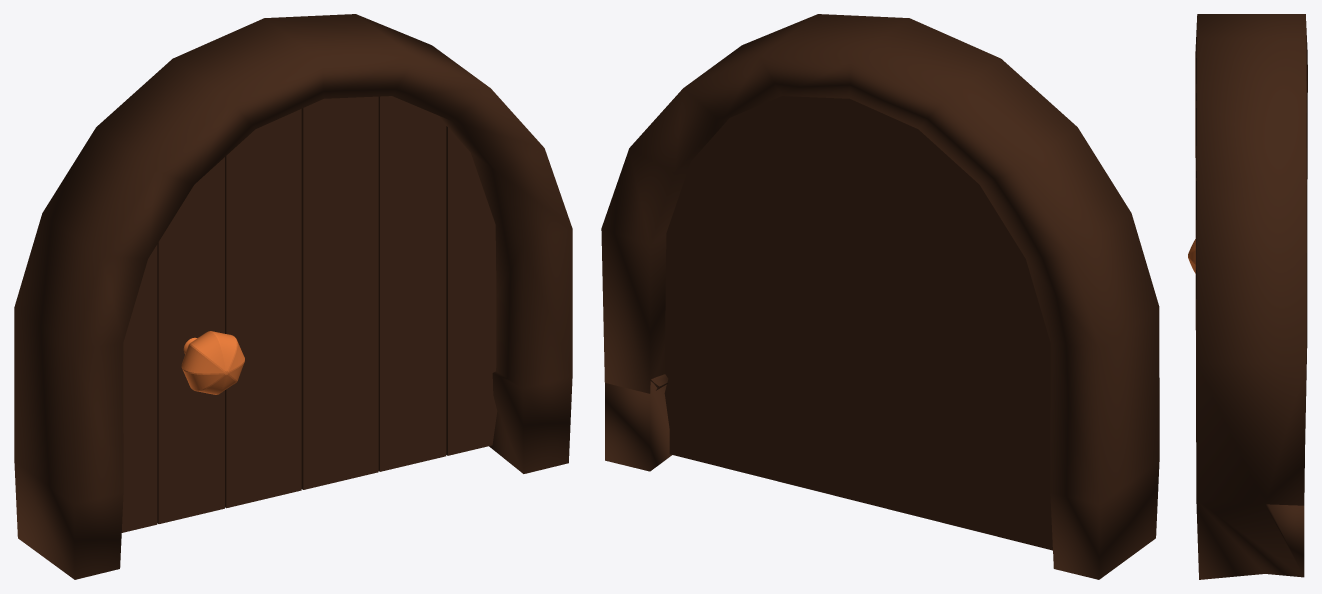
The model's file is door mushroom.fbx.
3 views of the same model, side by side, from view 1: azimuth 30°, elevation 25°; view 2: azimuth 150°, elevation 25°; view 3: azimuth 270°, elevation 25° (orthographic). The views are drawn at different scales.
Visible parts, largest first — view 1: Door, Door frame; view 2: Door, Door frame; view 3: Door frame, Door.
Part boxes in pixels (x1,y1,x2,y2): Door: (121, 96, 497, 532); Door frame: (14, 14, 572, 579); Door: (664, 96, 1052, 550); Door frame: (601, 14, 1159, 579); Door frame: (1195, 14, 1307, 579); Door: (1188, 239, 1195, 273).
Size of the model in its own units: 56.93 by 50.03 by 12.64.
